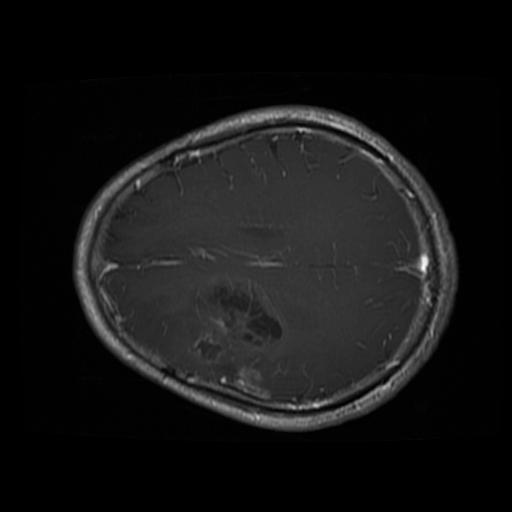glioma: (189, 274, 284, 401)
